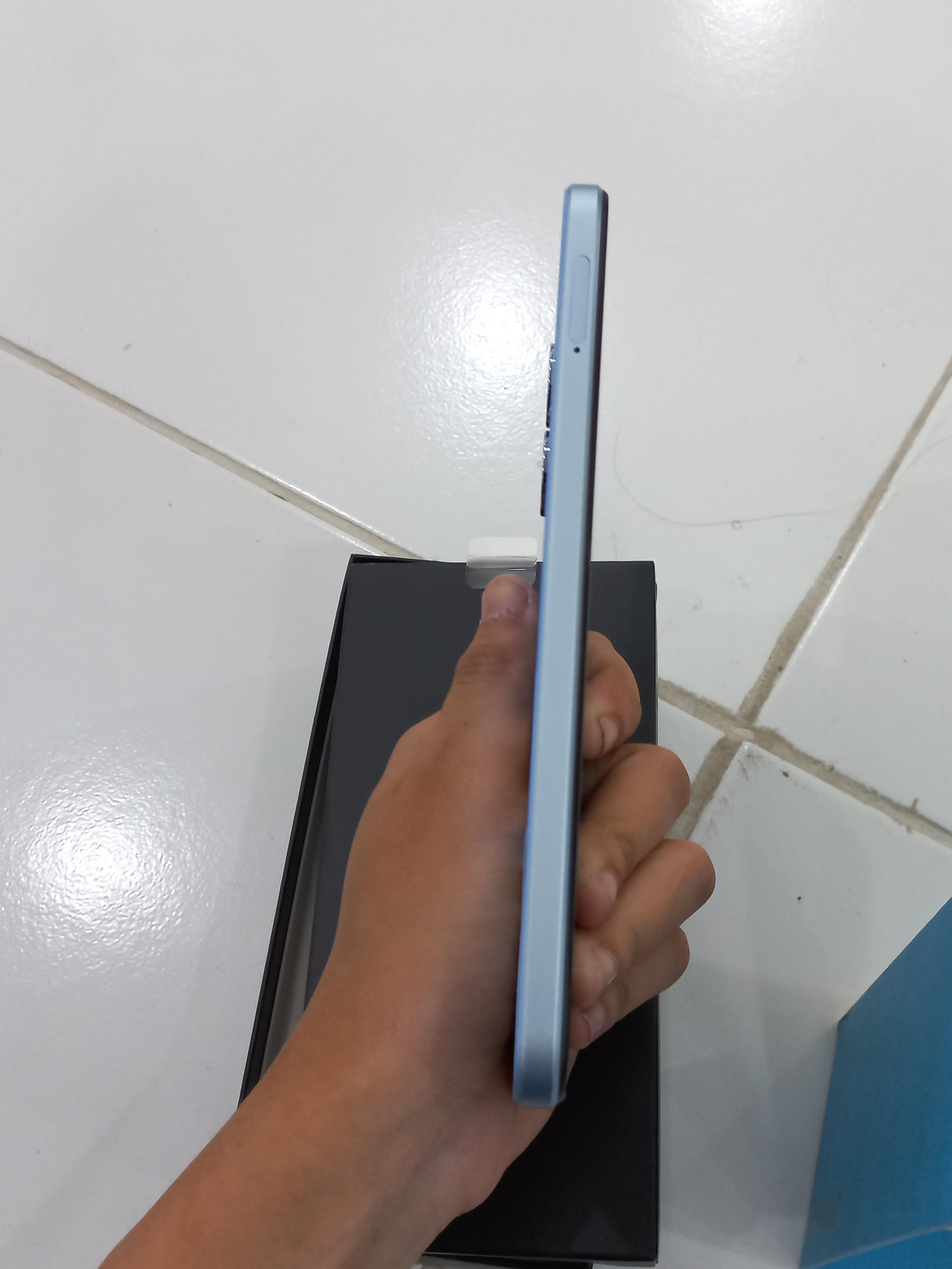phone good: (495, 131, 623, 1125)
